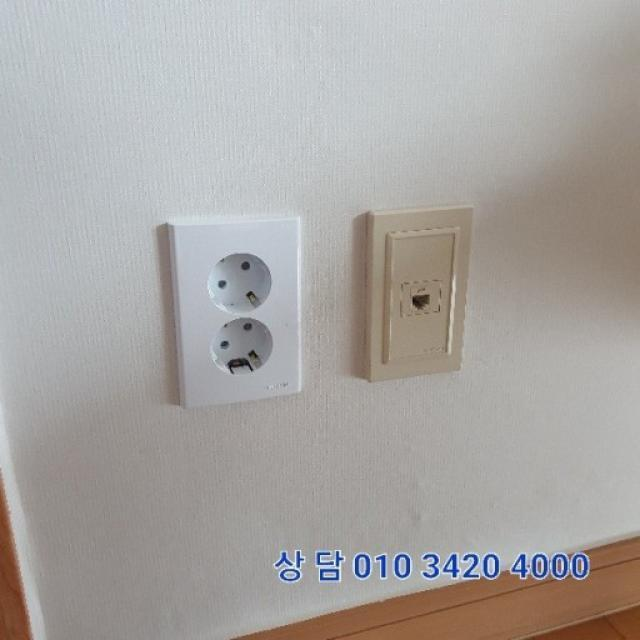typeb: (163, 191, 323, 425)
